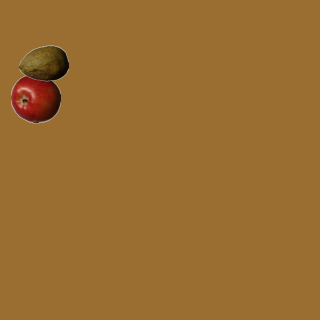Apple Braeburn: (10, 73, 60, 123)
Papaya: (18, 38, 68, 88)
